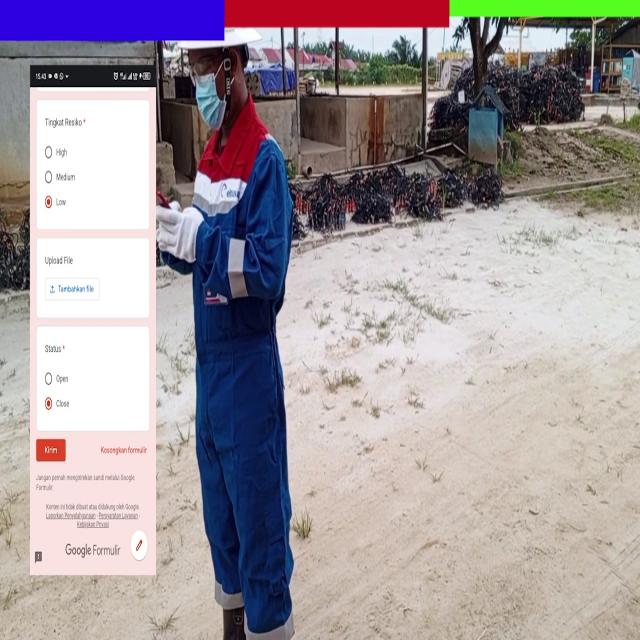Gloves: (156, 200, 203, 261)
Mask: (194, 75, 225, 128)
Overall Suit: (192, 113, 292, 640)
Safety Boots: (220, 607, 249, 640)
